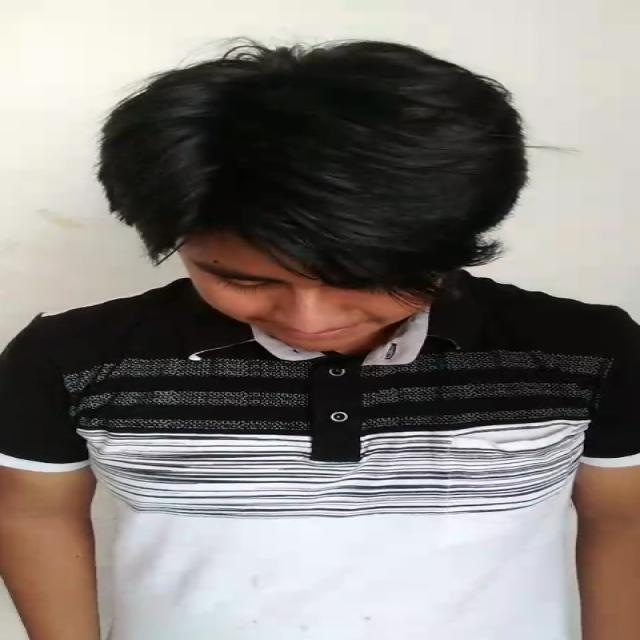9_cabeza_baja: (96, 42, 530, 349)
